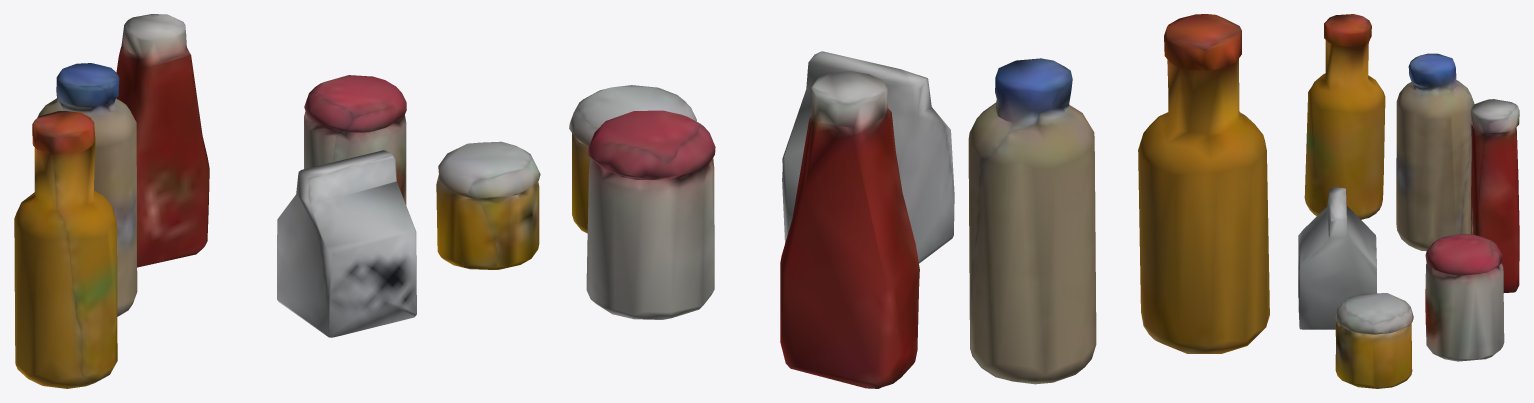
Rendered from FOOD_BEVERAGE_SET-medium.glb.
3 views of the same model, side by side, from view 1: azimuth 30°, elevation 25°; view 2: azimuth 150°, elevation 25°; view 3: azimuth 270°, elevation 25° (orthographic). The views are drawn at different scales.
Visible parts, largest first — view 1: FOOD_BEVERAGE_SET; view 2: FOOD_BEVERAGE_SET; view 3: FOOD_BEVERAGE_SET.
Boxes of the visible parts, x1,y1,x2,y2 form: FOOD_BEVERAGE_SET: (14, 14, 540, 388); FOOD_BEVERAGE_SET: (569, 14, 1269, 388); FOOD_BEVERAGE_SET: (1298, 14, 1519, 388).
Size of the model in its own units: 0.2667 by 0.1198 by 0.1272.
1 material, 1 textured.
